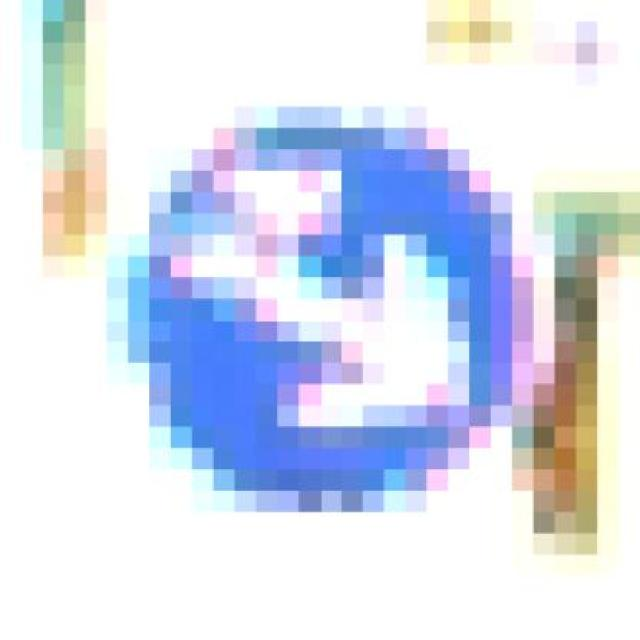Keep-Right: (86, 106, 576, 534)
